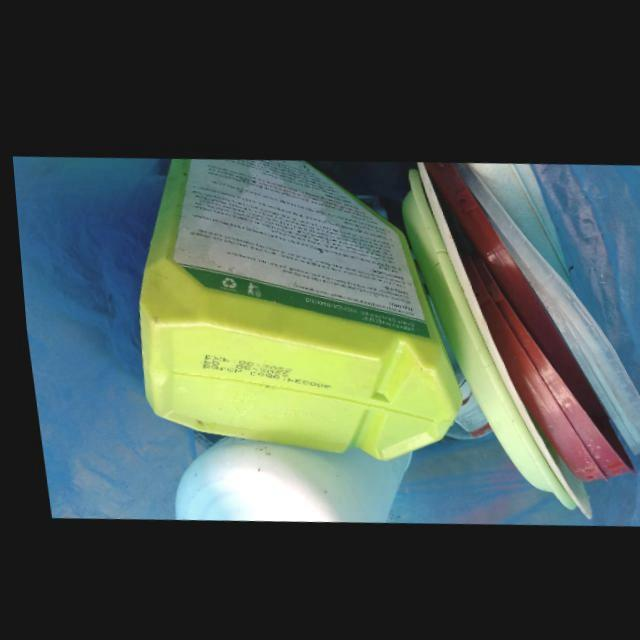plastic_bottle: (165, 435, 402, 518)
plastic_container: (134, 156, 456, 455), (420, 156, 628, 475), (397, 161, 567, 503), (451, 156, 640, 447)
